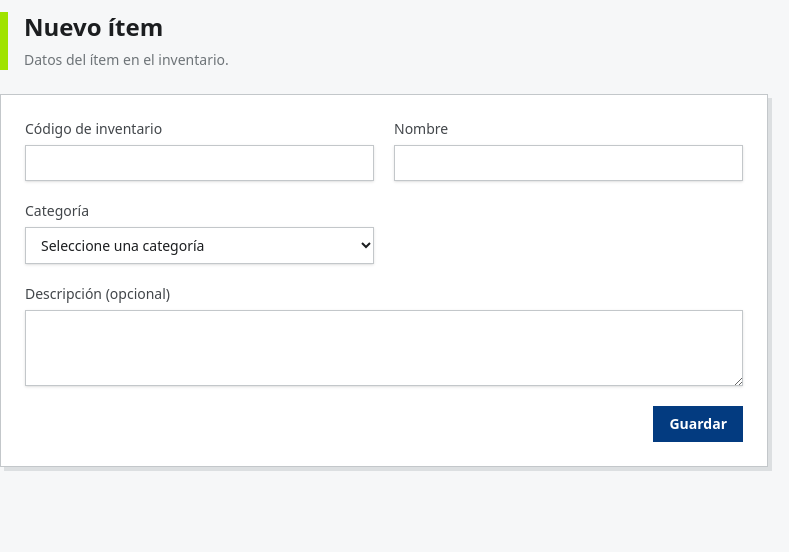
Test: ItemFormPage › muestra el mensaje del backend si el código ya existe
The image size is (789, 552).
Type "EQ-010" into the field labelled "Código de inventario" at (200, 163), box [25,145,374,181]
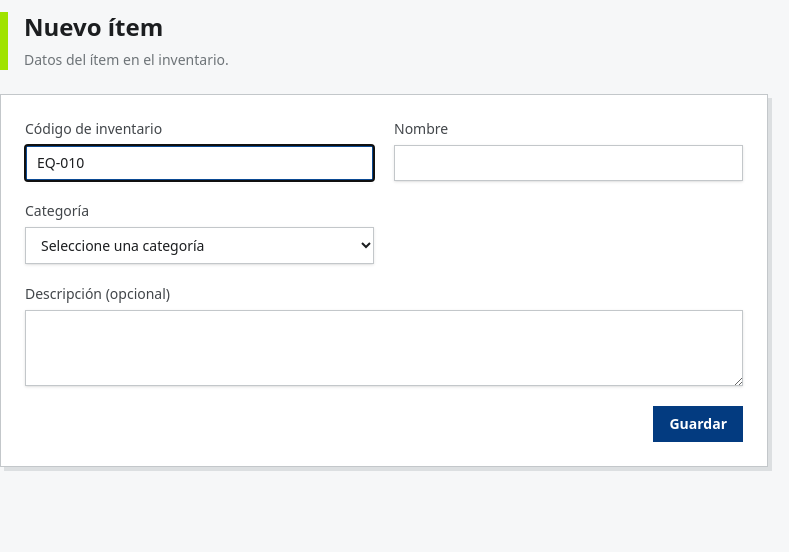
Type "Proyector" into the field labelled "Nombre" at (568, 163), box [394,145,743,181]
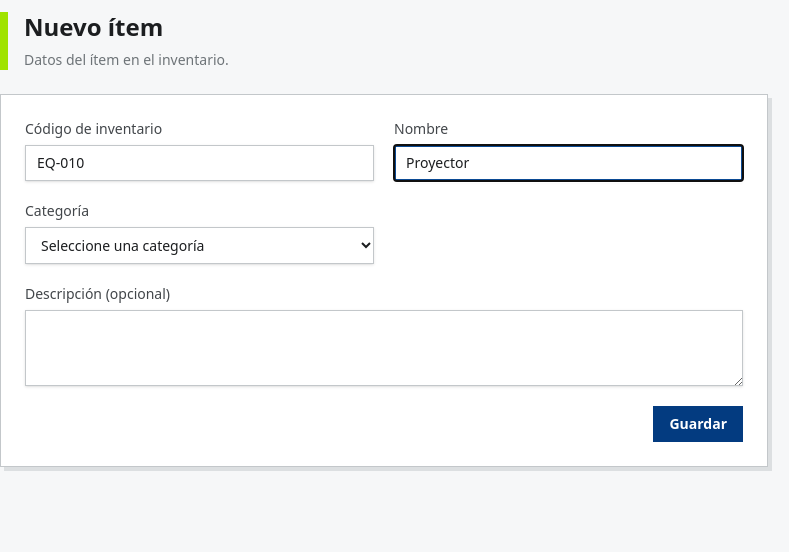
Select "Equipo" in the dropdown labelled "Categoría" at (200, 246), box [25,227,374,264]
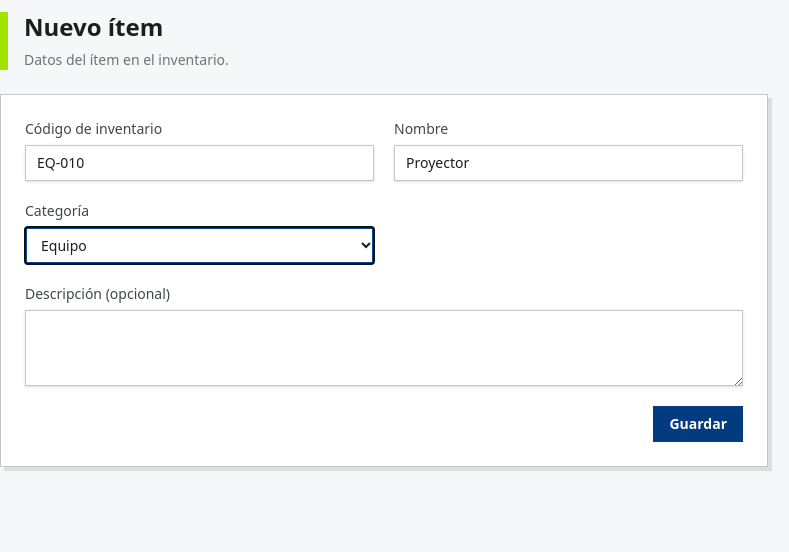
Click the button "Guardar" at (698, 424), box [654,406,743,442]
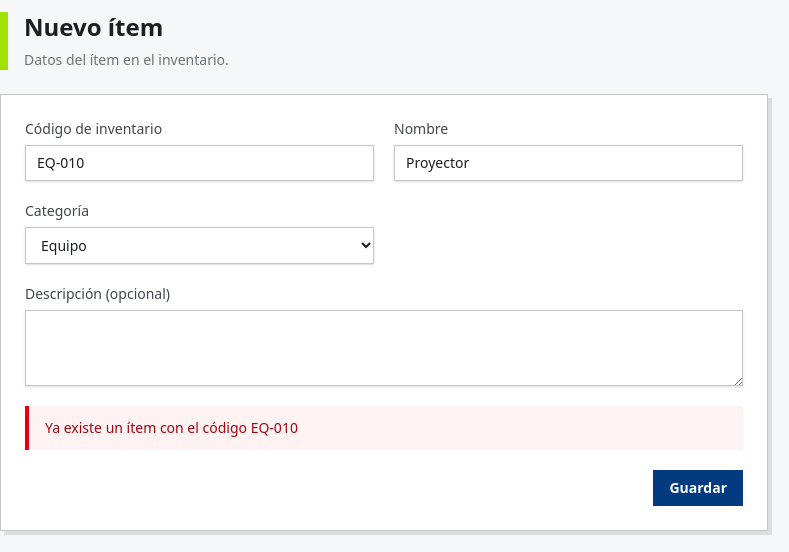
Now the text "Ya existe un ítem con el código EQ-010" is shown, box [25,406,743,450]
